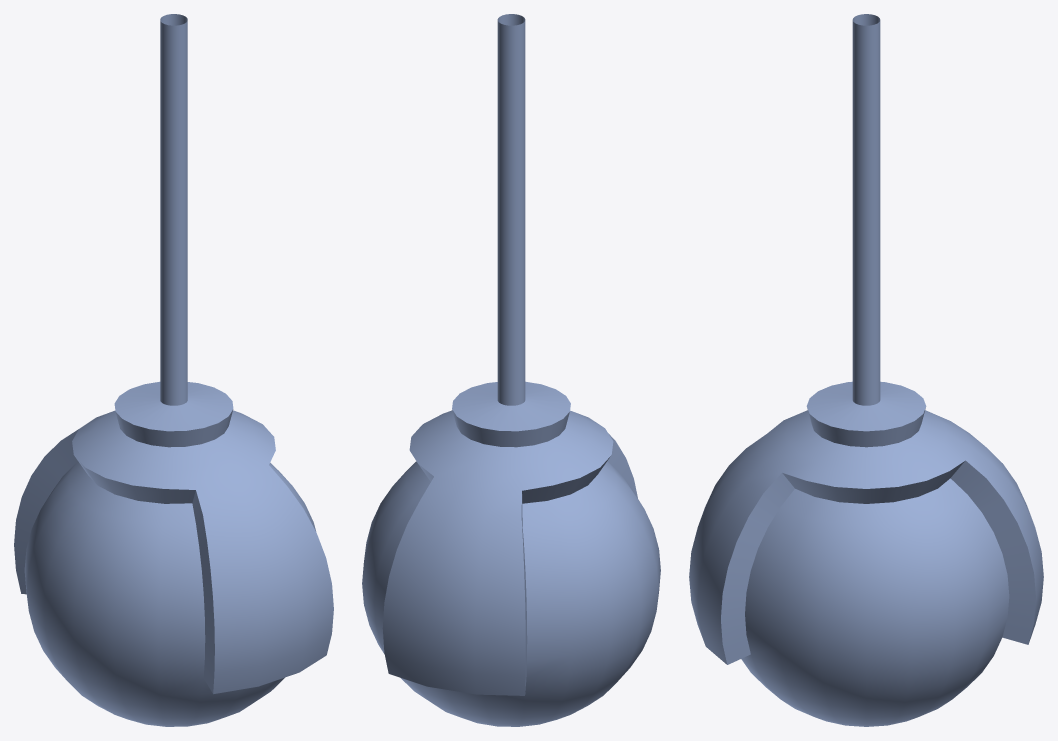
Rendered from GEN_Light01.fbx.
The picture shows the model from 3 angles, left to right: view 1: azimuth 30°, elevation 25°; view 2: azimuth 150°, elevation 25°; view 3: azimuth 270°, elevation 25°; orthographic projection.
Parts seen in each view (by area): view 1: Lights01_Body; view 2: Lights01_Body; view 3: Lights01_Body.
Part boxes in pixels (x1,y1,x2,y2): Lights01_Body: (14,14,333,726); Lights01_Body: (362,14,660,726); Lights01_Body: (689,14,1043,726).
Size of the model in its own units: 22.49 by 57.25 by 26.56.
